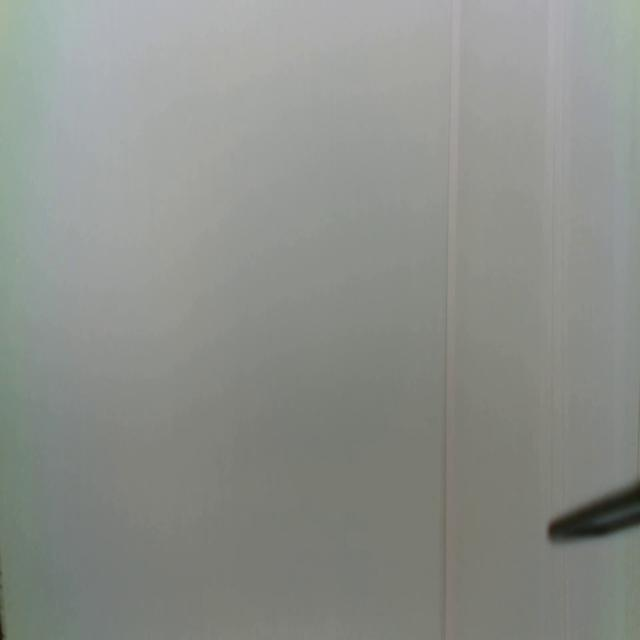crease: (541, 0, 574, 510), (443, 0, 461, 640), (558, 544, 572, 640)
